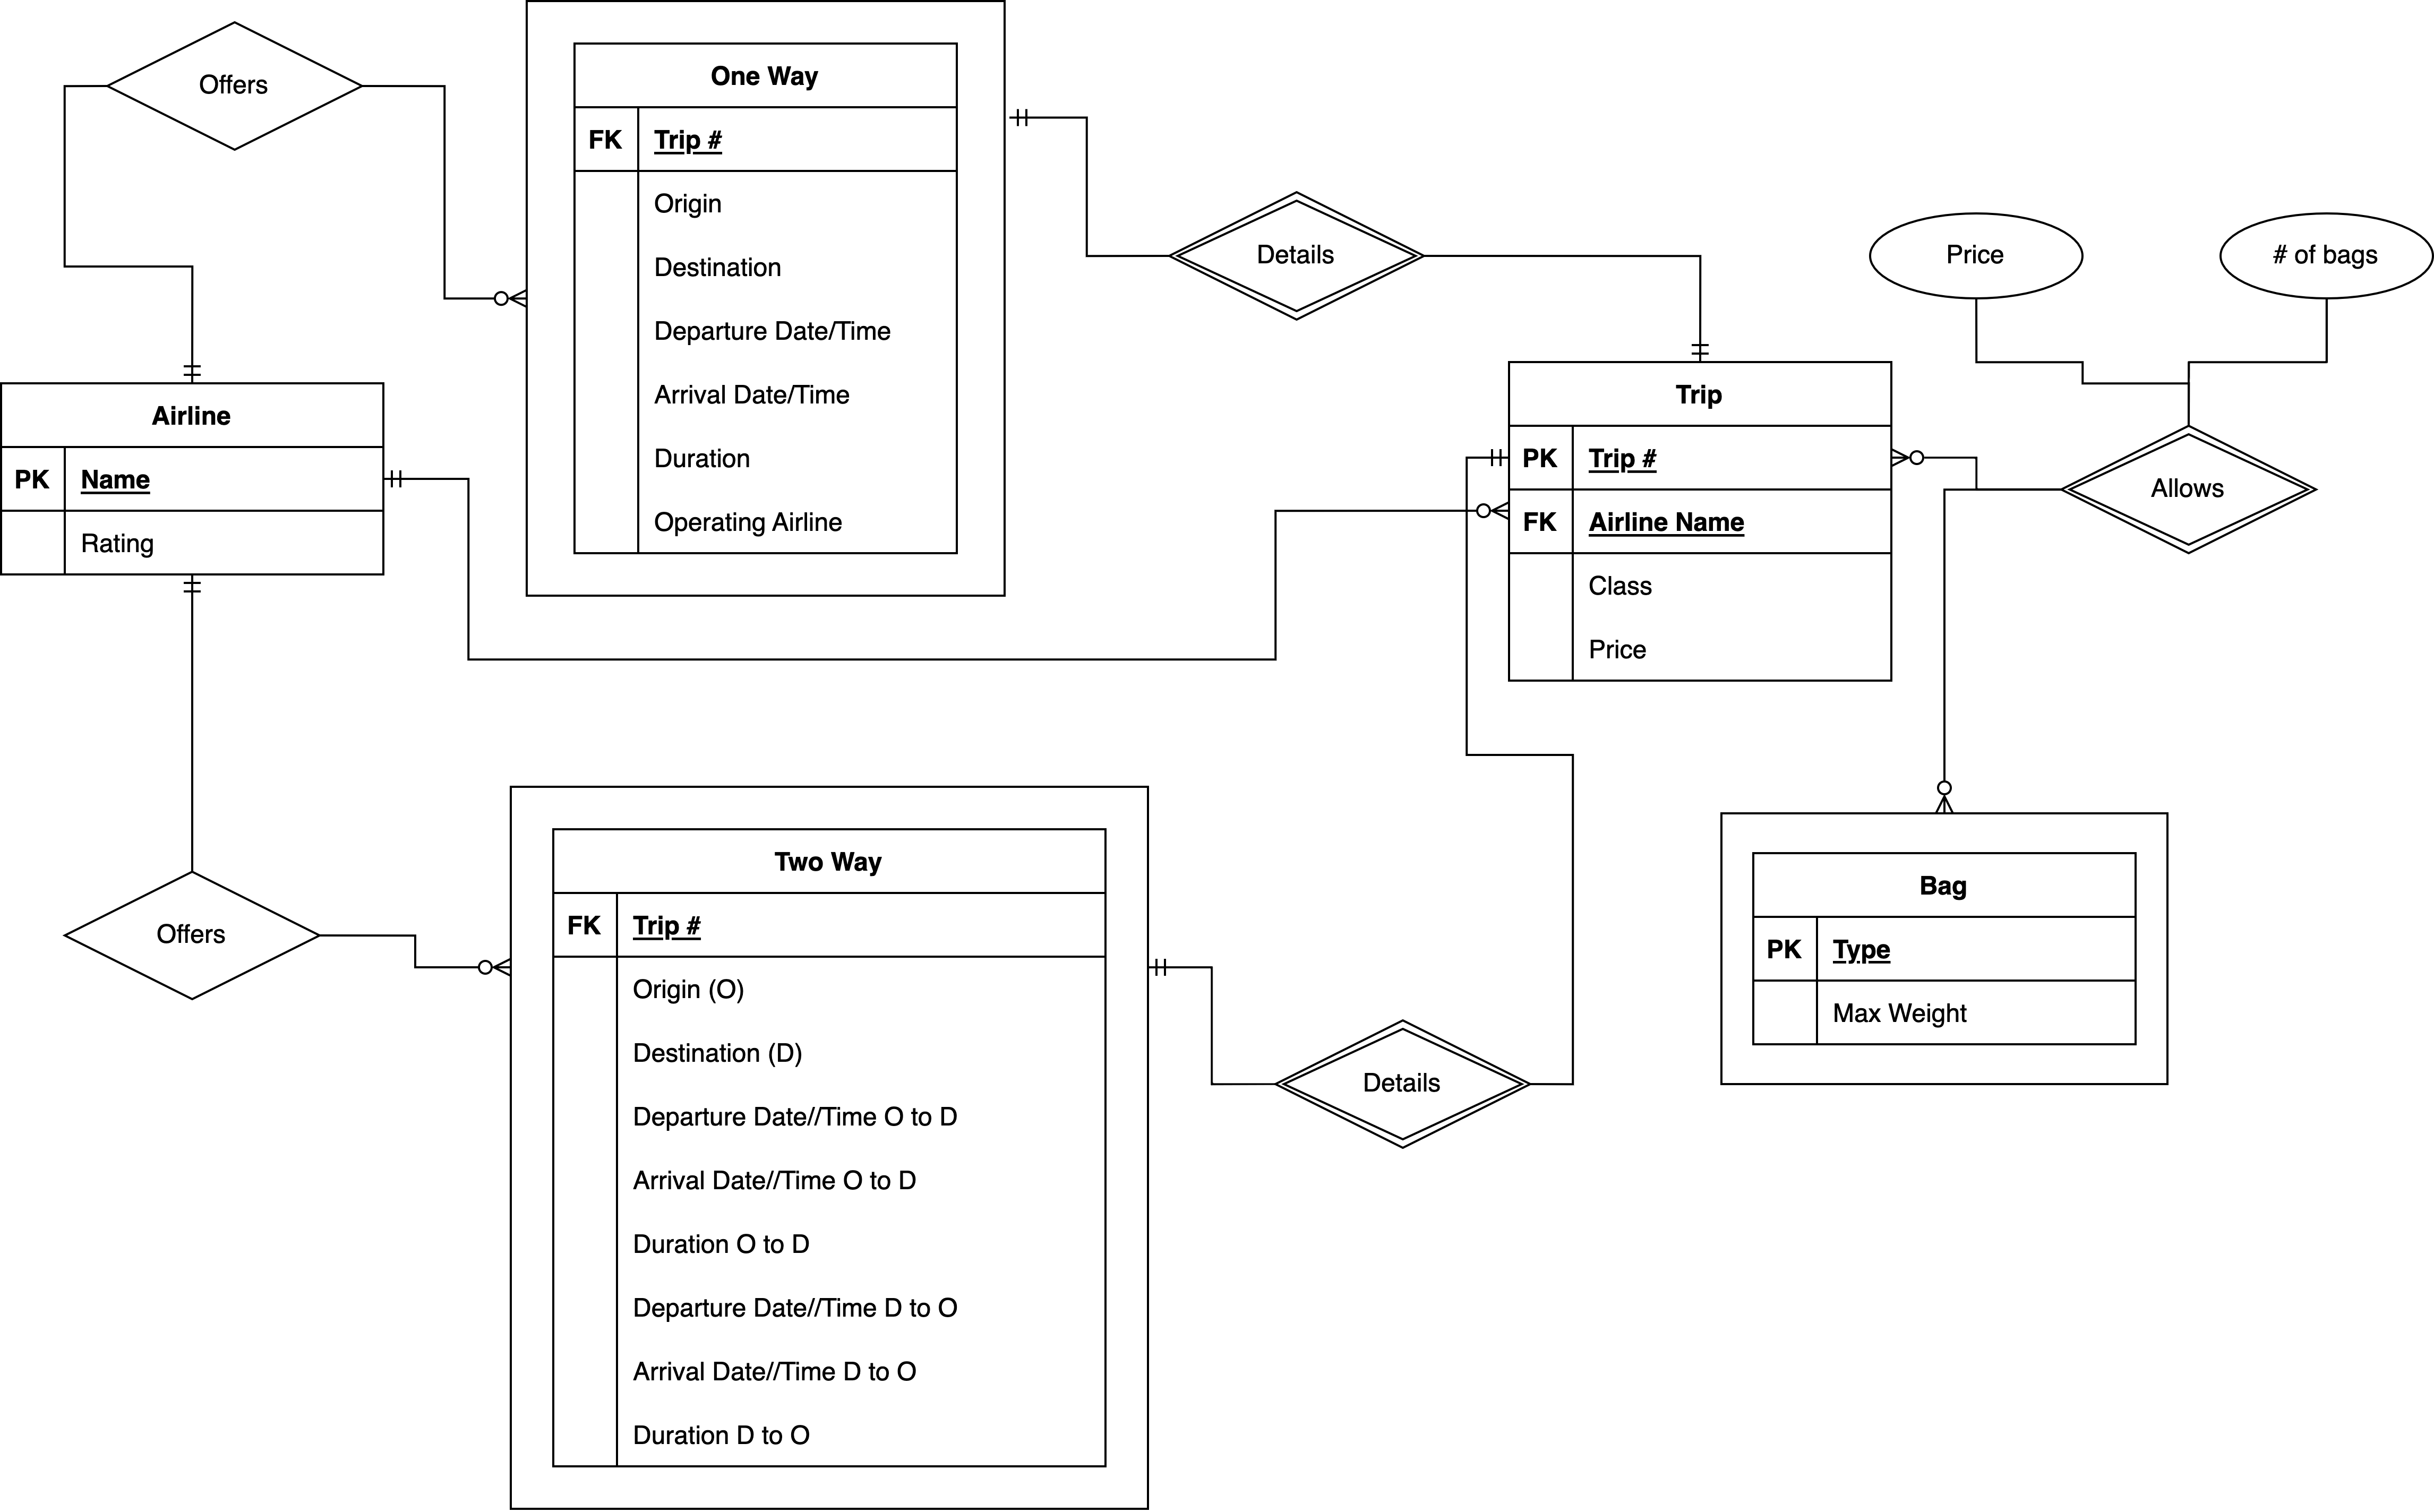entity: (524, 2, 1012, 594), (1509, 362, 1897, 686), (1720, 813, 2169, 1089), (2, 385, 390, 578)
ident_rel: (1275, 1017, 1530, 1151), (1169, 190, 1425, 321), (2061, 427, 2319, 552)
many: (1892, 448, 1976, 472), (416, 958, 512, 979), (448, 287, 530, 312), (1451, 502, 1514, 528), (1936, 758, 1955, 815)
one: (1005, 108, 1058, 129), (181, 573, 204, 620), (1467, 446, 1511, 470), (181, 340, 204, 385), (1148, 956, 1192, 977), (385, 469, 422, 489), (1690, 324, 1711, 361)
rel: (112, 21, 366, 152), (63, 873, 321, 998)
rel_attr: (2221, 211, 2434, 303), (1871, 214, 2084, 298)
weak_entity: (510, 782, 1152, 1512)
